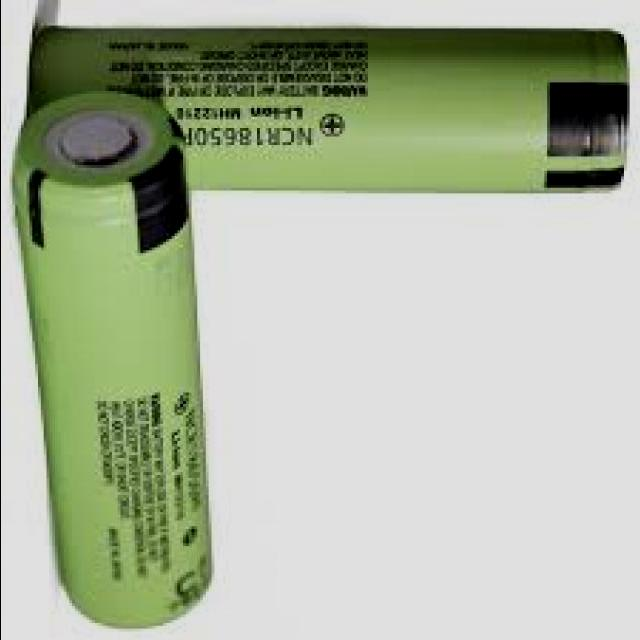AA: (19, 102, 210, 628), (42, 28, 628, 194)
